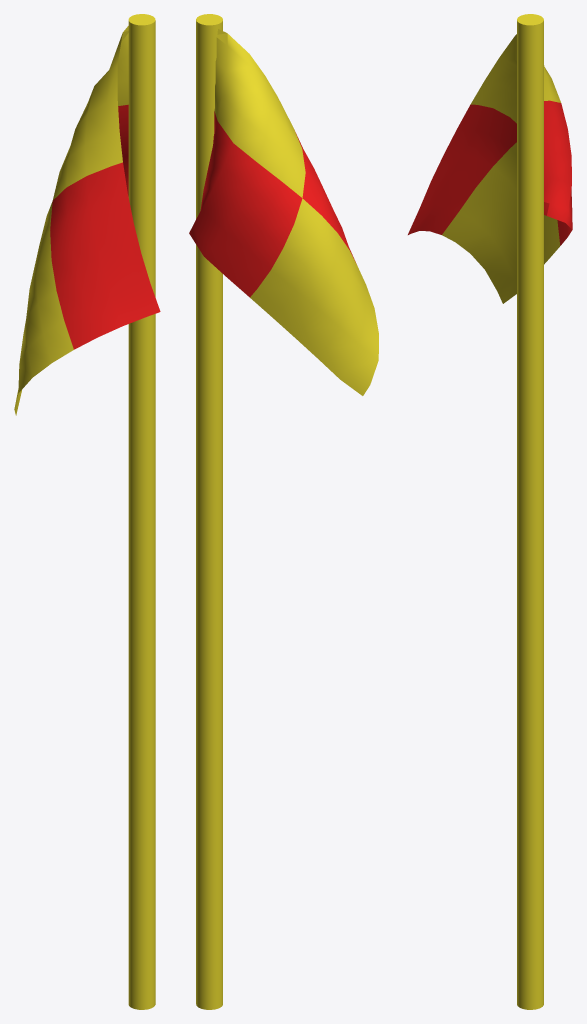
The model's file is 脚旗杆.FBX.
3 views of the same model, side by side, from view 1: azimuth 30°, elevation 25°; view 2: azimuth 150°, elevation 25°; view 3: azimuth 270°, elevation 25° (orthographic).
Visible parts, largest first — view 1: Corner Flag 4; view 2: Corner Flag 4; view 3: Corner Flag 4.
Part boxes in pixels (bbox=[...]): Corner Flag 4: bbox=[14, 14, 160, 1009]; Corner Flag 4: bbox=[189, 14, 378, 1009]; Corner Flag 4: bbox=[408, 14, 572, 1009].
Size of the model in its own units: 9.93 by 59.06 by 8.98.
